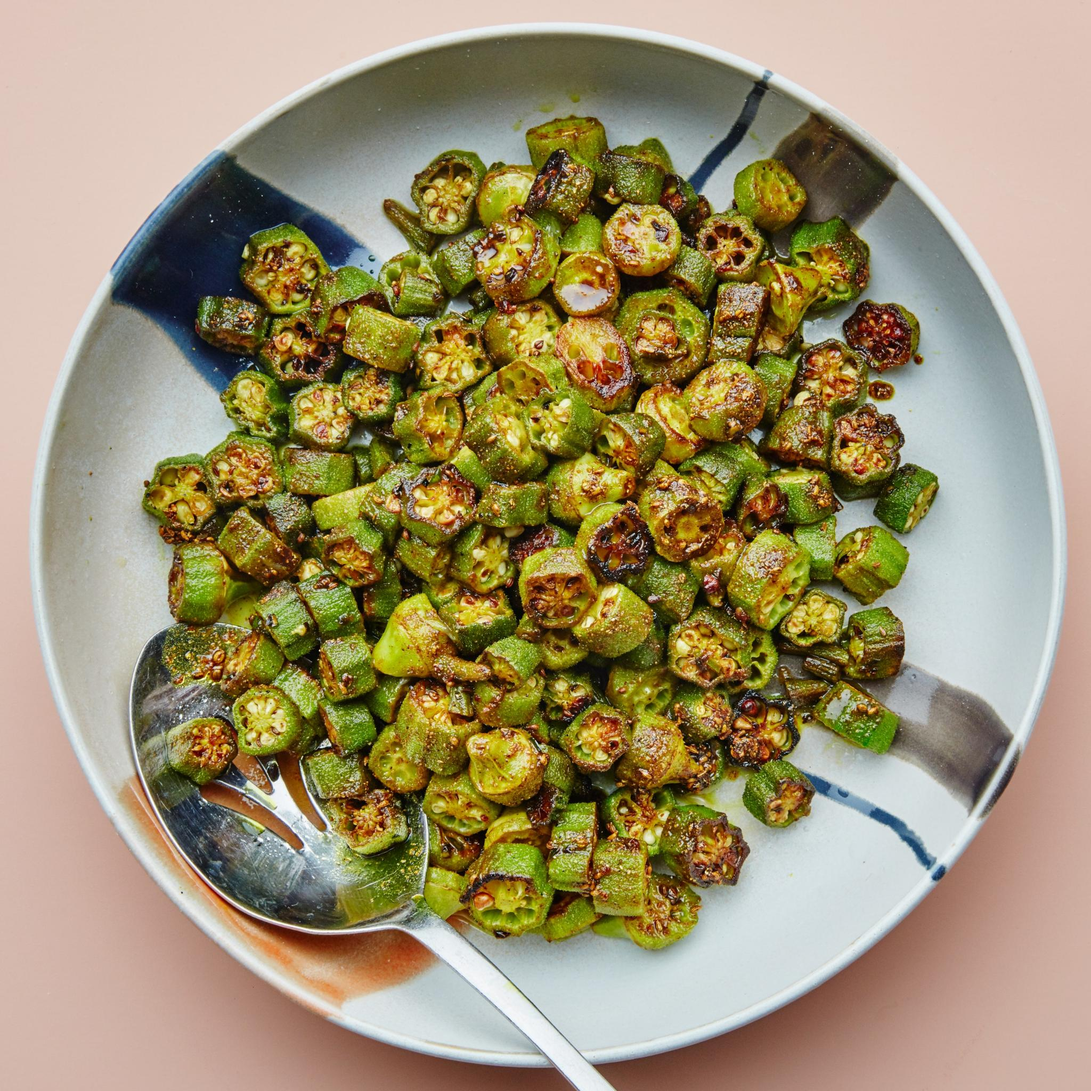bhindi: (138, 121, 907, 867)
